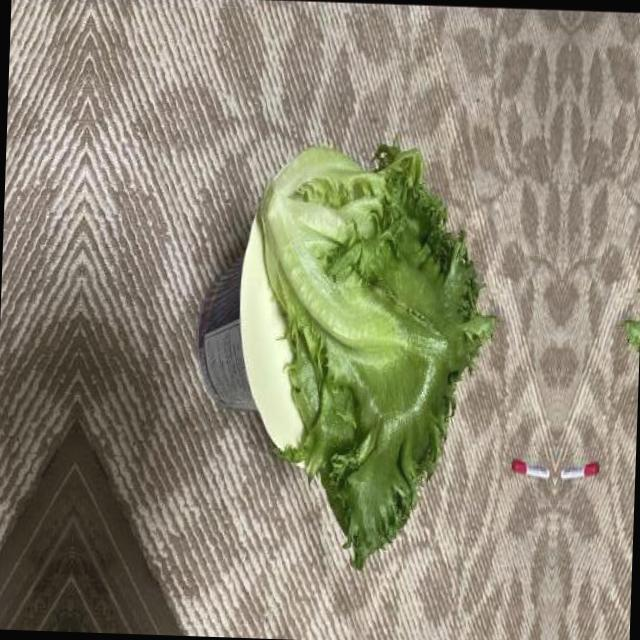healthy: (247, 137, 498, 579), (619, 150, 640, 584)
